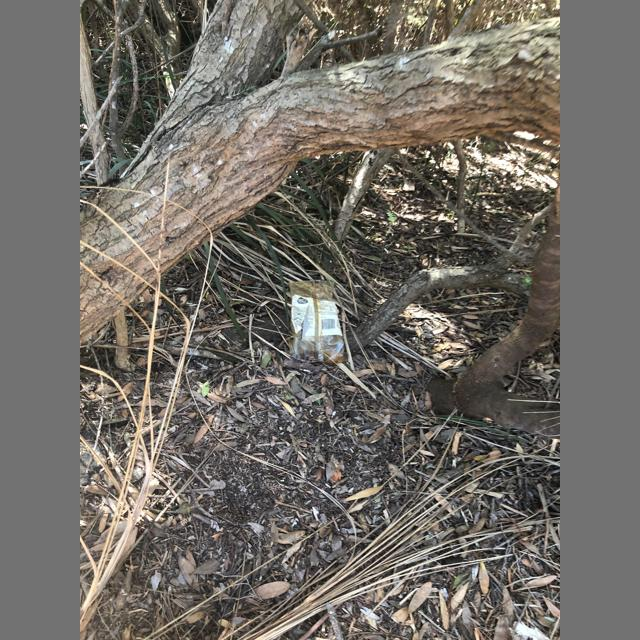litter: (288, 280, 345, 364)
